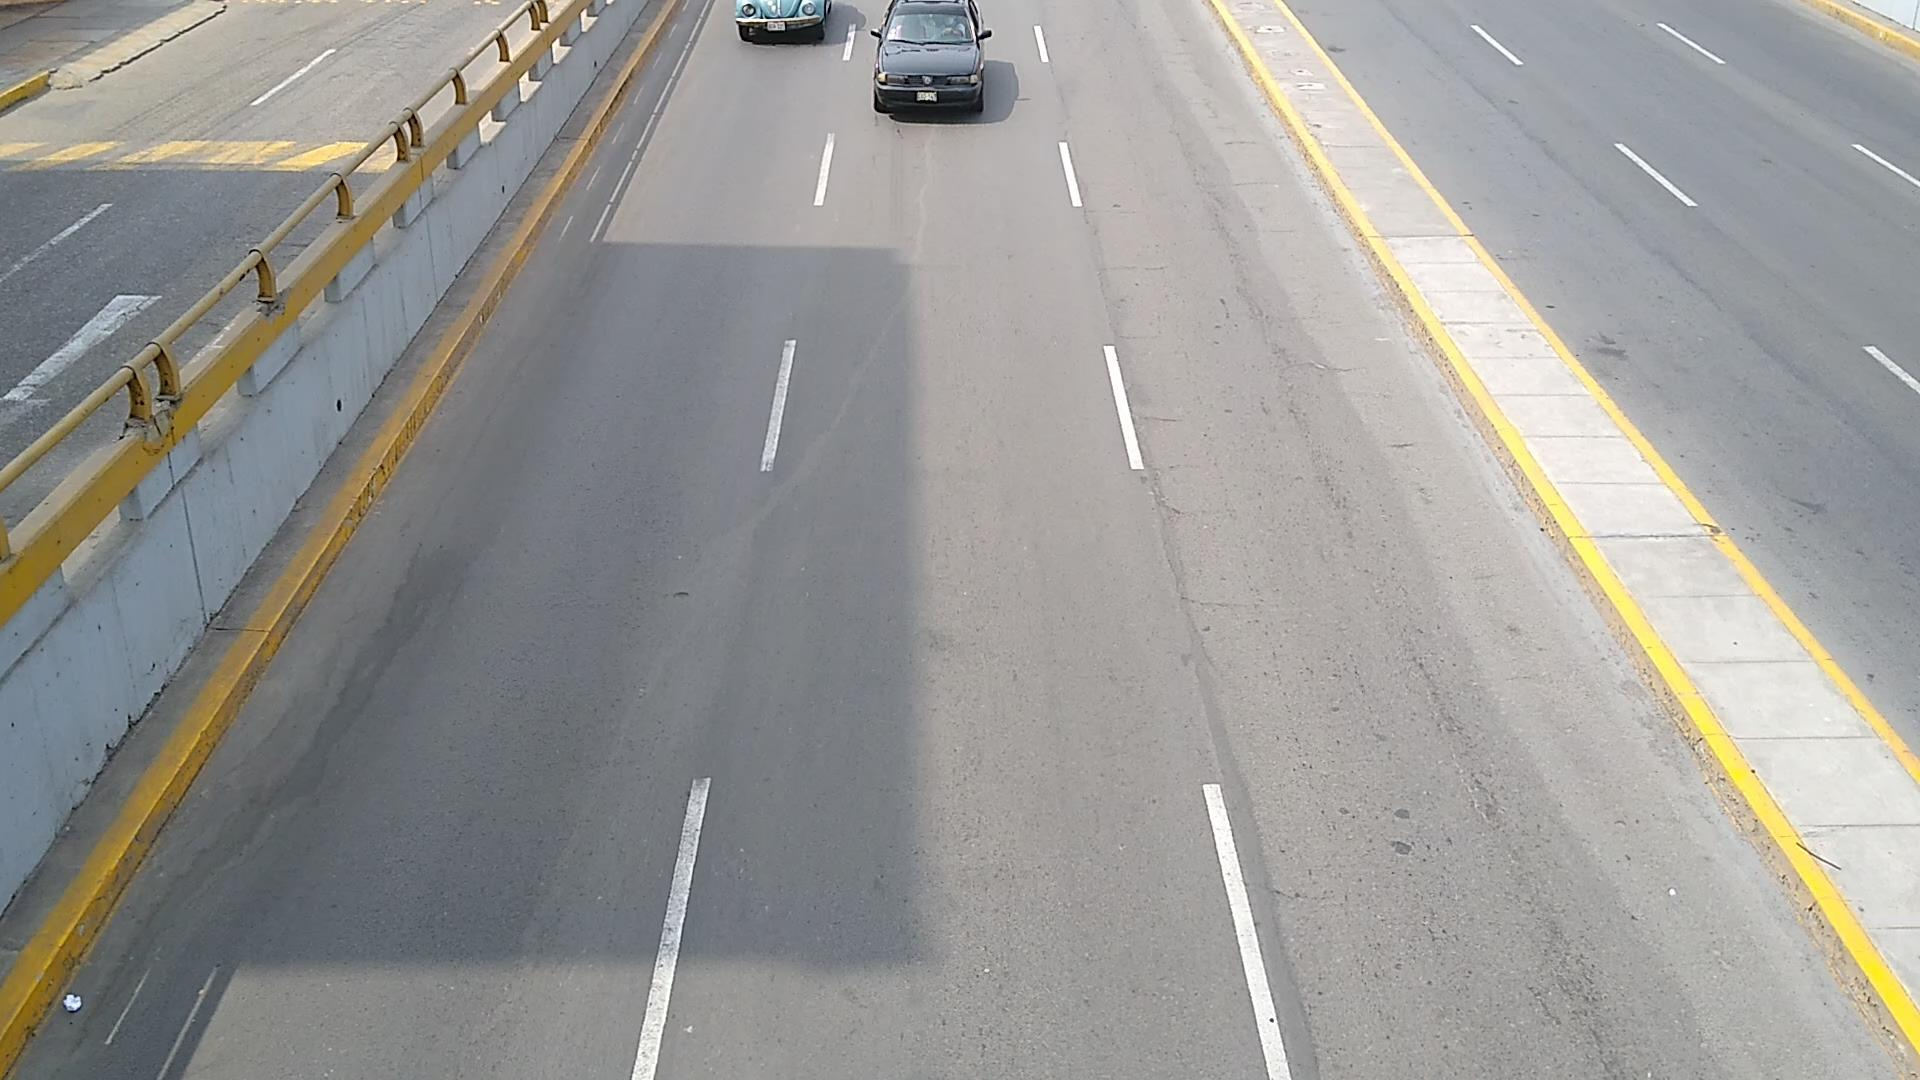car: (870, 0, 990, 112)
